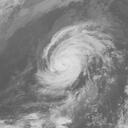cyclone: (33, 22, 114, 97)
